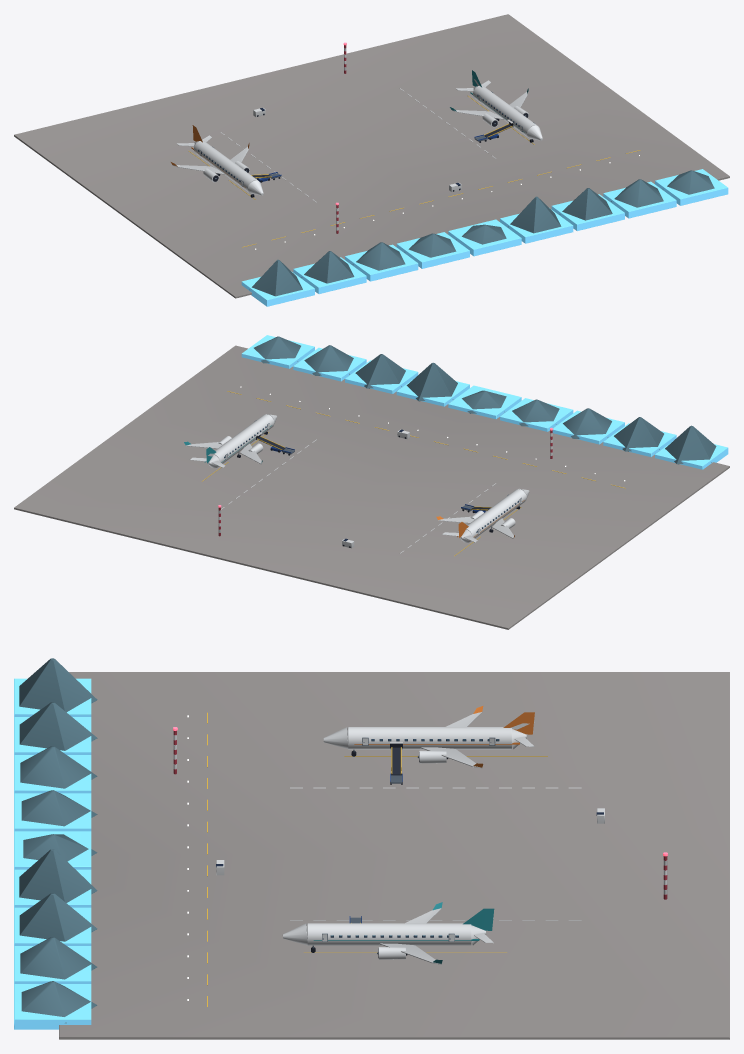
File: apron.glb
3 renders of one model, top to bottom at view 1: azimuth 30°, elevation 25°; view 2: azimuth 150°, elevation 25°; view 3: azimuth 270°, elevation 25°, orthographic. The views are drawn at different scales.
Parts seen in each view (by area): view 1: apron; view 2: apron; view 3: apron.
Part boxes in pixels (box(x1,y1,x2,y2)): apron: box(14, 14, 729, 306); apron: box(14, 335, 729, 629); apron: box(14, 658, 729, 1039).
Size of the model in its own units: 134 by 8.97 by 111.
